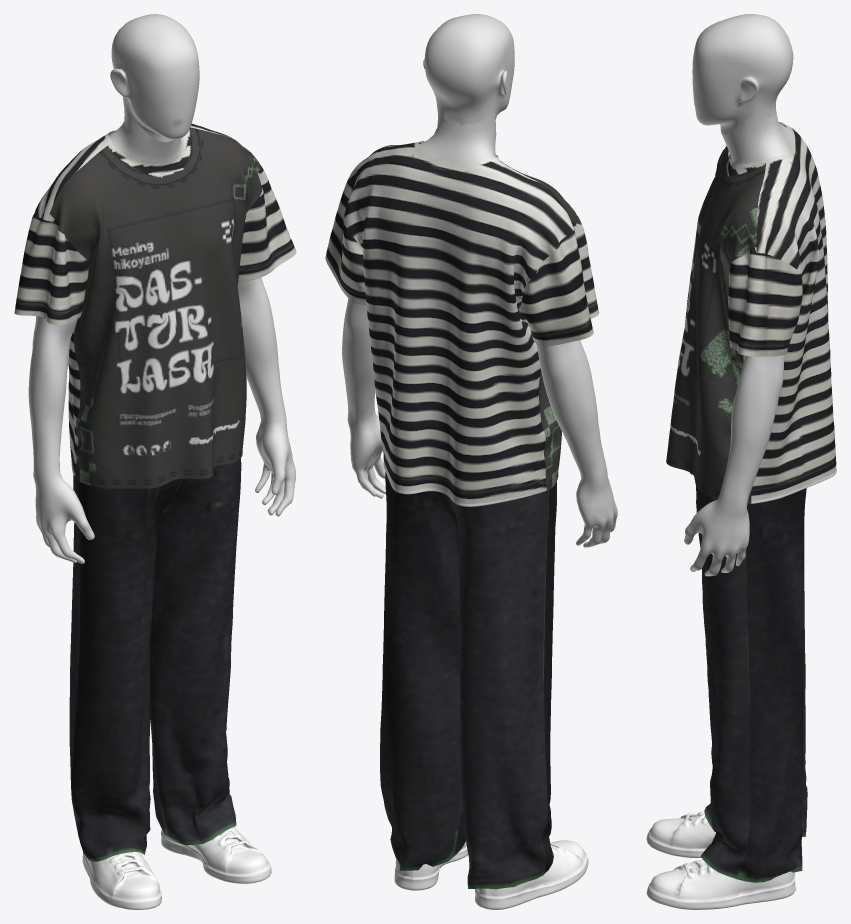
3 views of the same model, side by side, from view 1: azimuth 30°, elevation 25°; view 2: azimuth 150°, elevation 25°; view 3: azimuth 270°, elevation 25° (orthographic). The views are drawn at different scales.
Visible parts, largest first — view 1: tshirt_3, body_3_0, shoes_r_Shape_2, shoes_l_Shape_1; view 2: tshirt_3, body_3_0, shoes_r_Shape_2, shoes_l_Shape_1; view 3: tshirt_3, body_3_0, shoes_l_Shape_1, shoes_r_Shape_2.
Boxes of the visible parts, <box> form: tshirt_3: <box>14,123,296,861</box>; body_3_0: <box>28,14,295,563</box>; shoes_r_Shape_2: <box>82,852,161,909</box>; shoes_l_Shape_1: <box>161,827,271,883</box>; tshirt_3: <box>325,141,599,889</box>; body_3_0: <box>342,14,617,547</box>; shoes_r_Shape_2: <box>475,840,588,909</box>; shoes_l_Shape_1: <box>394,841,468,890</box>; tshirt_3: <box>666,122,836,882</box>; body_3_0: <box>684,14,793,576</box>; shoes_l_Shape_1: <box>646,859,795,909</box>; shoes_r_Shape_2: <box>646,811,715,857</box>.
Bounding box in the file's own units: 0.6357 × 1.9 × 0.3829.
Materials: 3 (1 with a texture image).
